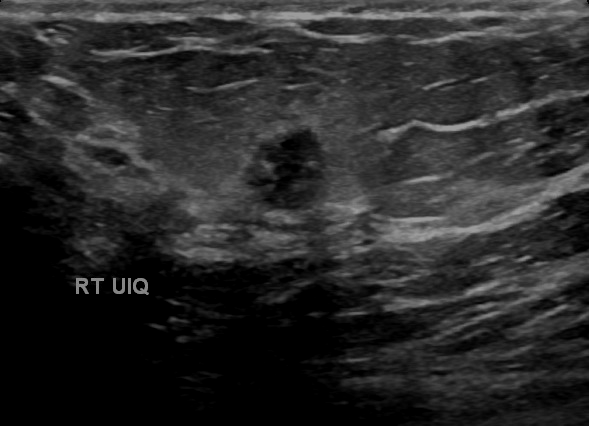Benign: (259, 121, 325, 204)
